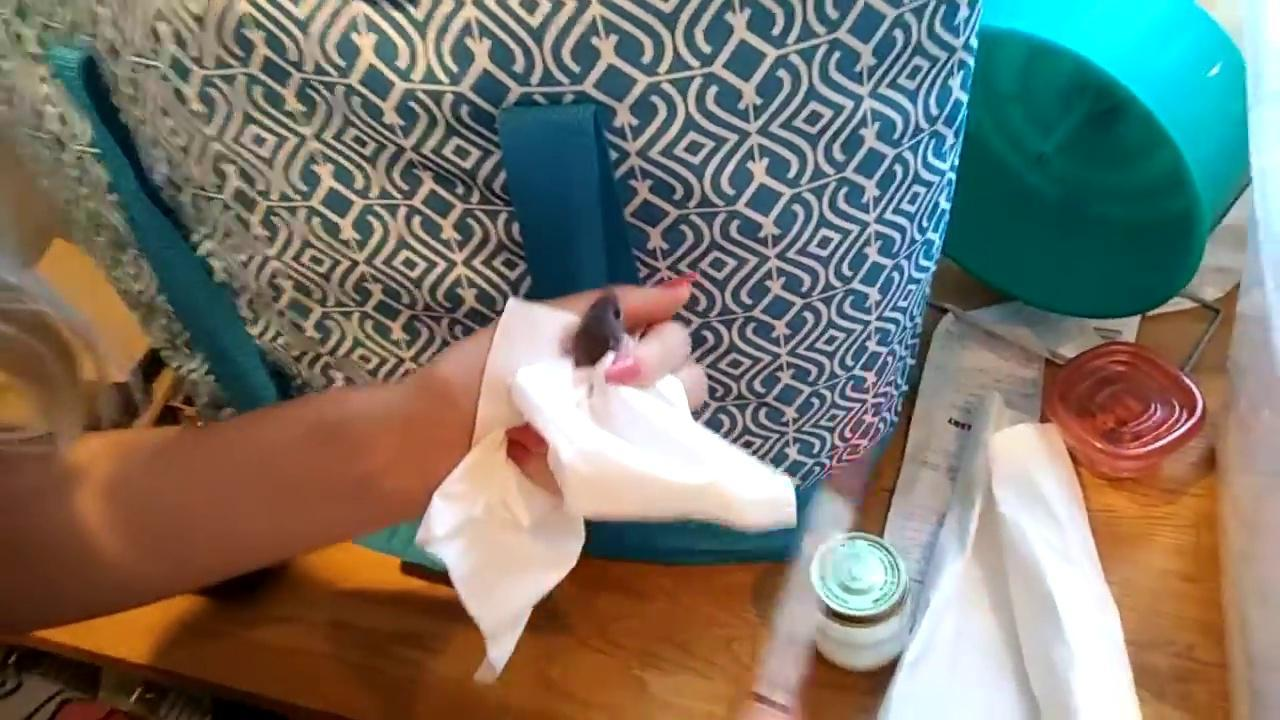rat: (576, 290, 624, 369)
